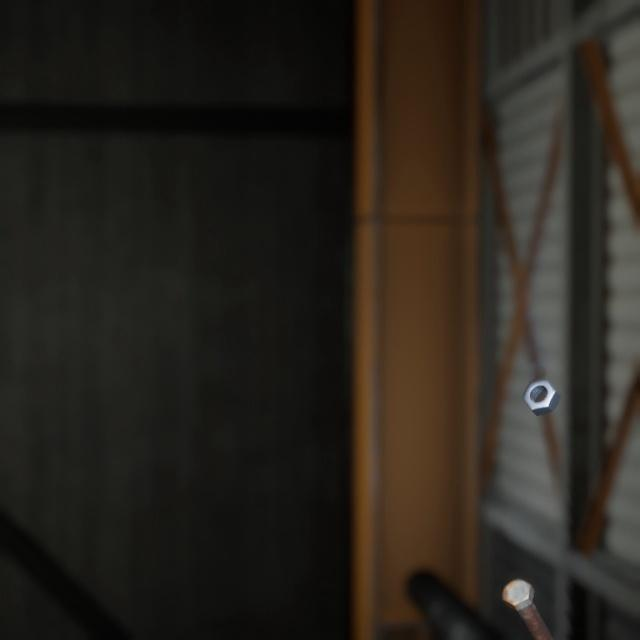bolt: (498, 550, 570, 640)
nut: (517, 355, 564, 400)
